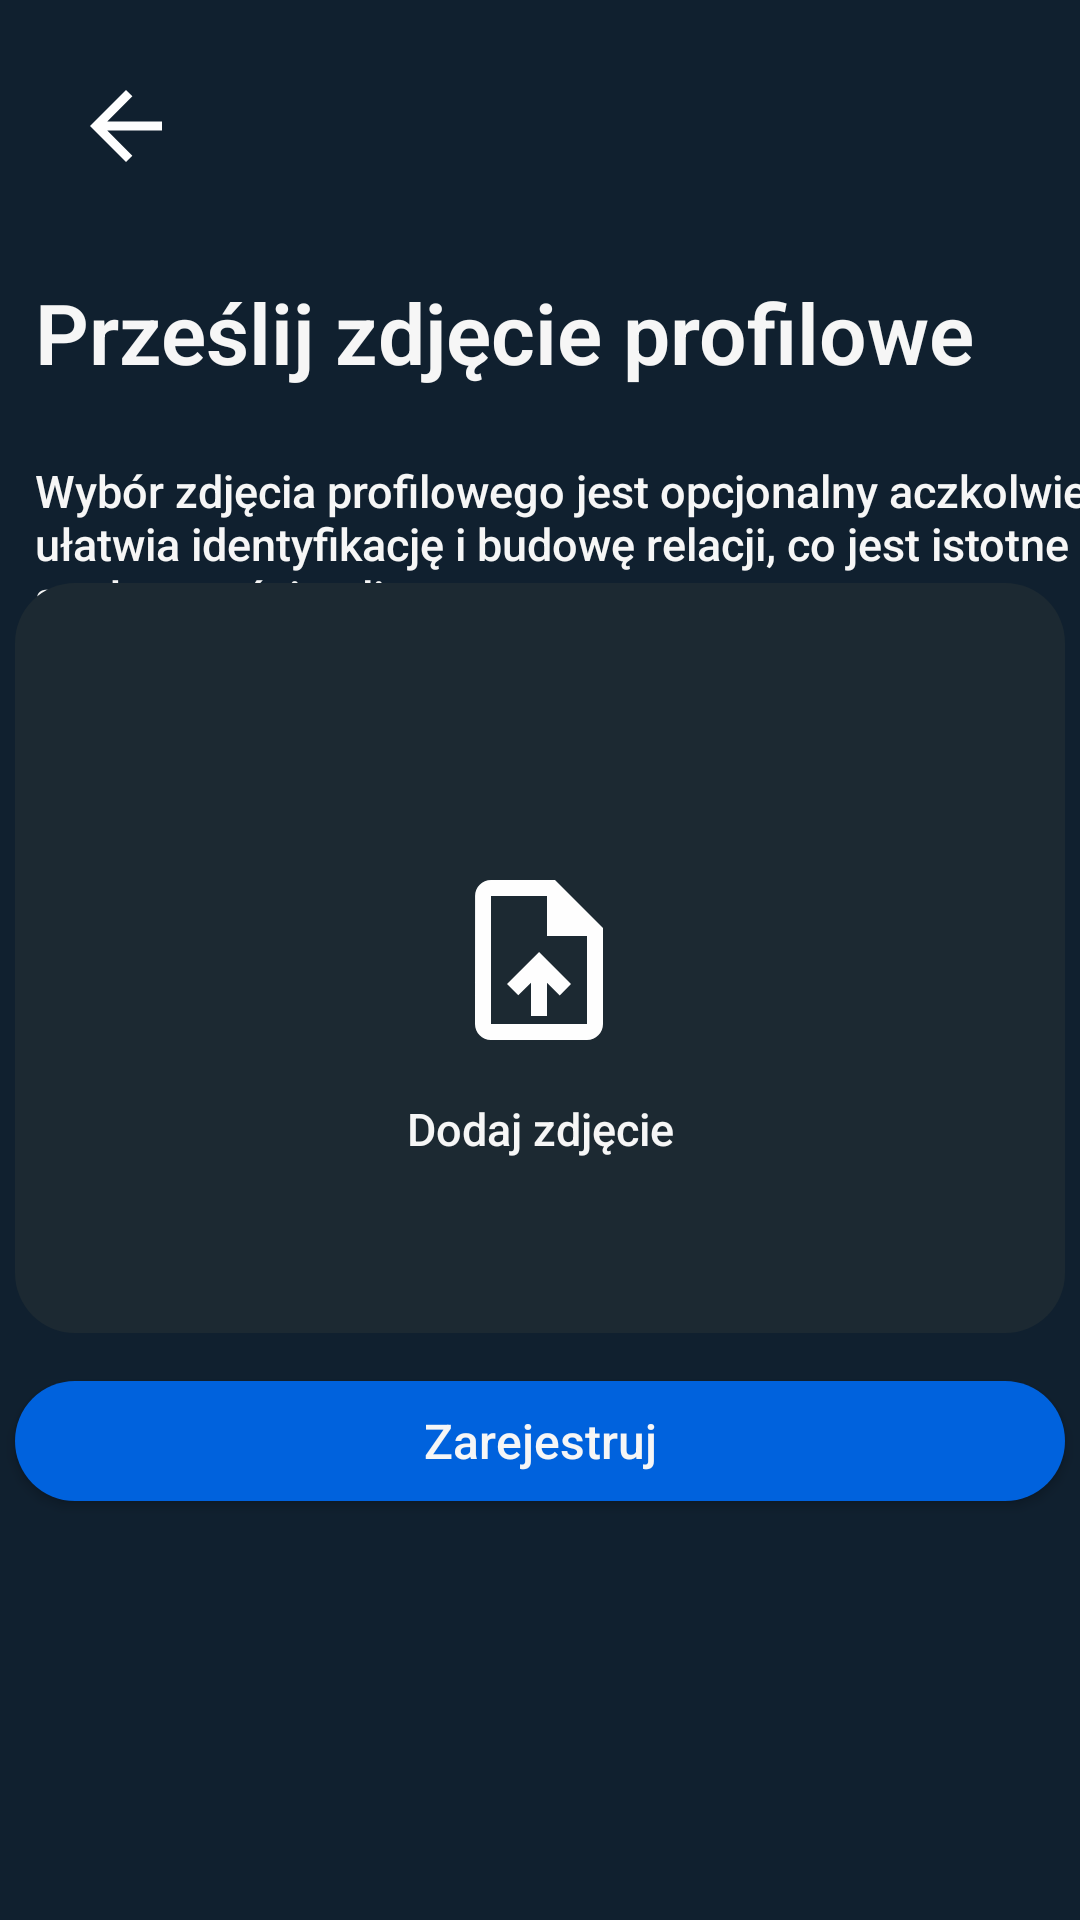

Icon bounding boxes for this 1080px×1920px phone screenshot, format (left=x1, top=y1, right=x2, bottom=y2):
arrow back: (left=90, top=90, right=162, bottom=162)
upload file: (left=475, top=880, right=603, bottom=1040)
